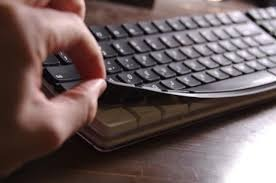keyboard: (15, 3, 270, 132)
